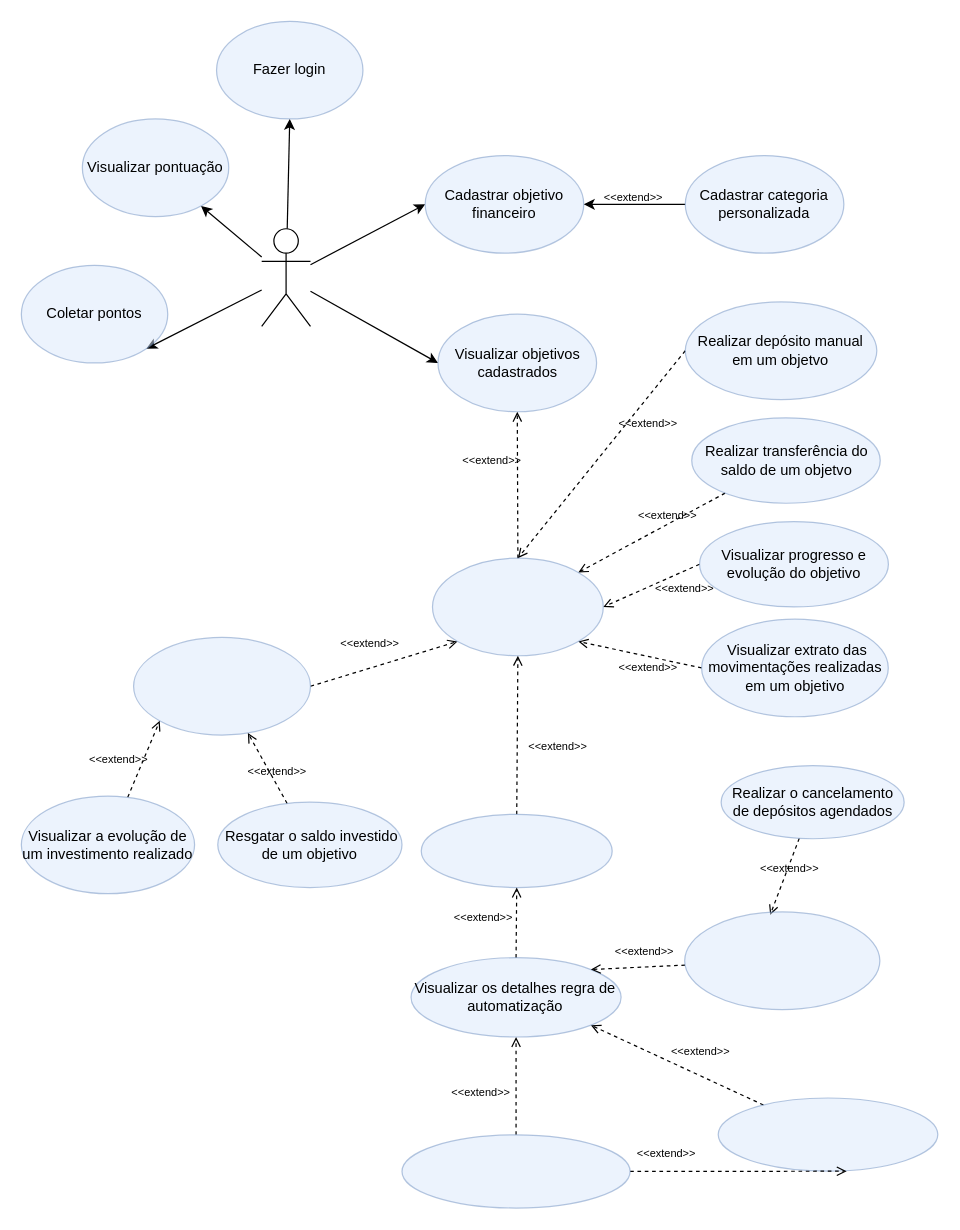
Some shapes in this 960 by 1230 pixel diagram are drawn without their labels. The centre of each missing label's shape, as x and y in pixels:
"Habilitar ou desabilitar regra de automatização de depósitos" goes at point 827,1134.
"Investir o saldo disponível em um objetivo" goes at point 221,685.
"Personalizar regra de automatização de depósitos" goes at point 515,1171.
"Usuário" goes at point 285,277.
"Visualizar detalhes de um objetivo" goes at point 517,606.
"Visualizar histórico de depósitos de uma regra de automatização" goes at point 781,960.
"Visualizar regras de automatização de depósitos" goes at point 516,850.
